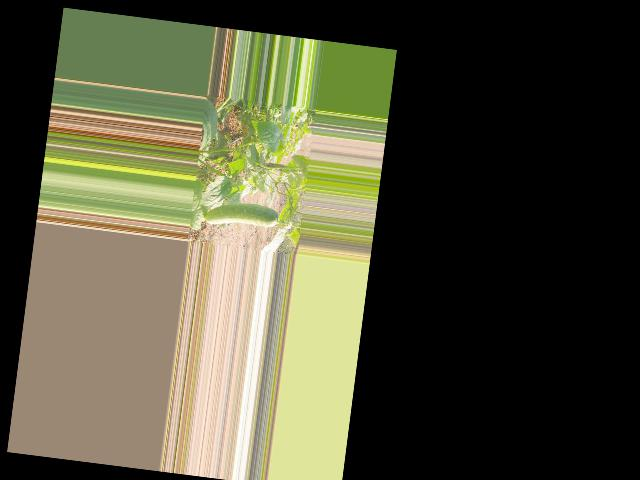cucumber: (204, 198, 279, 232)
